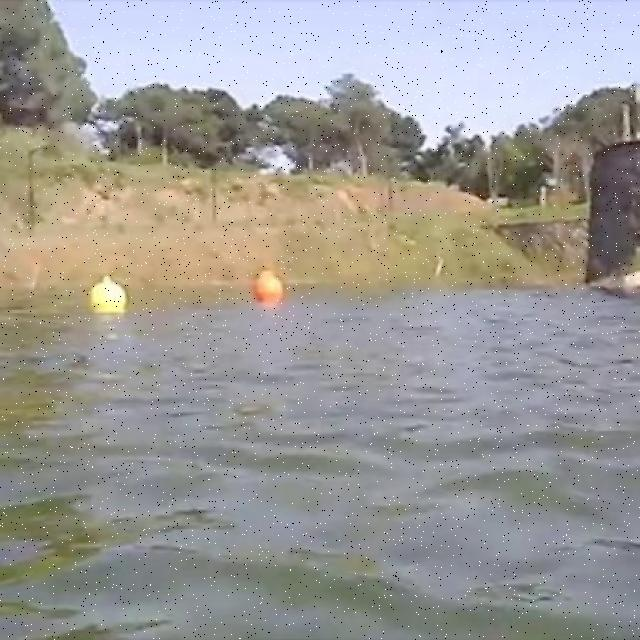buoy: (88, 275, 127, 312), (253, 270, 285, 302)
